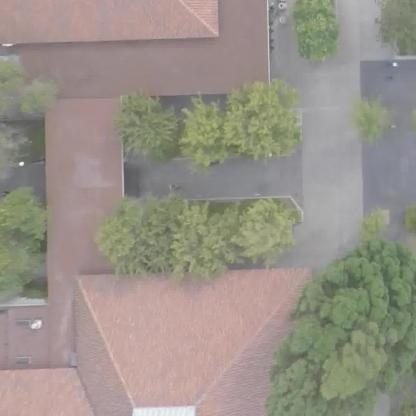Pedestrian: (167, 176, 185, 206), (1, 186, 14, 210), (382, 69, 396, 88)
